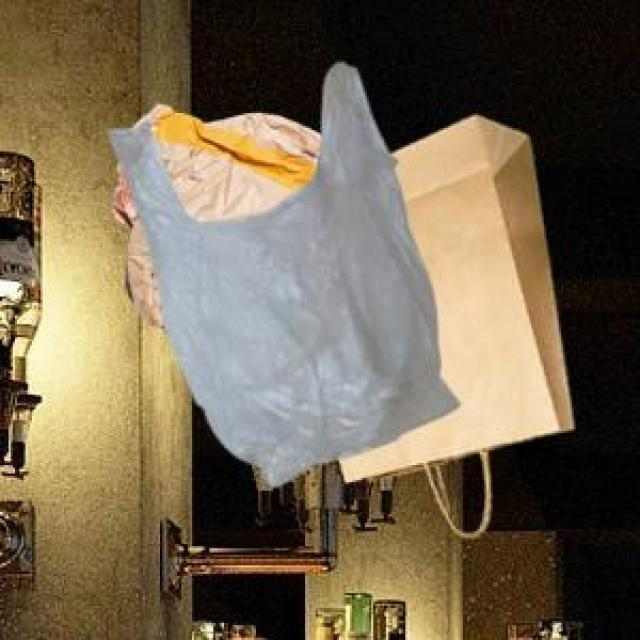paper: (335, 111, 570, 533), (107, 100, 318, 324)
